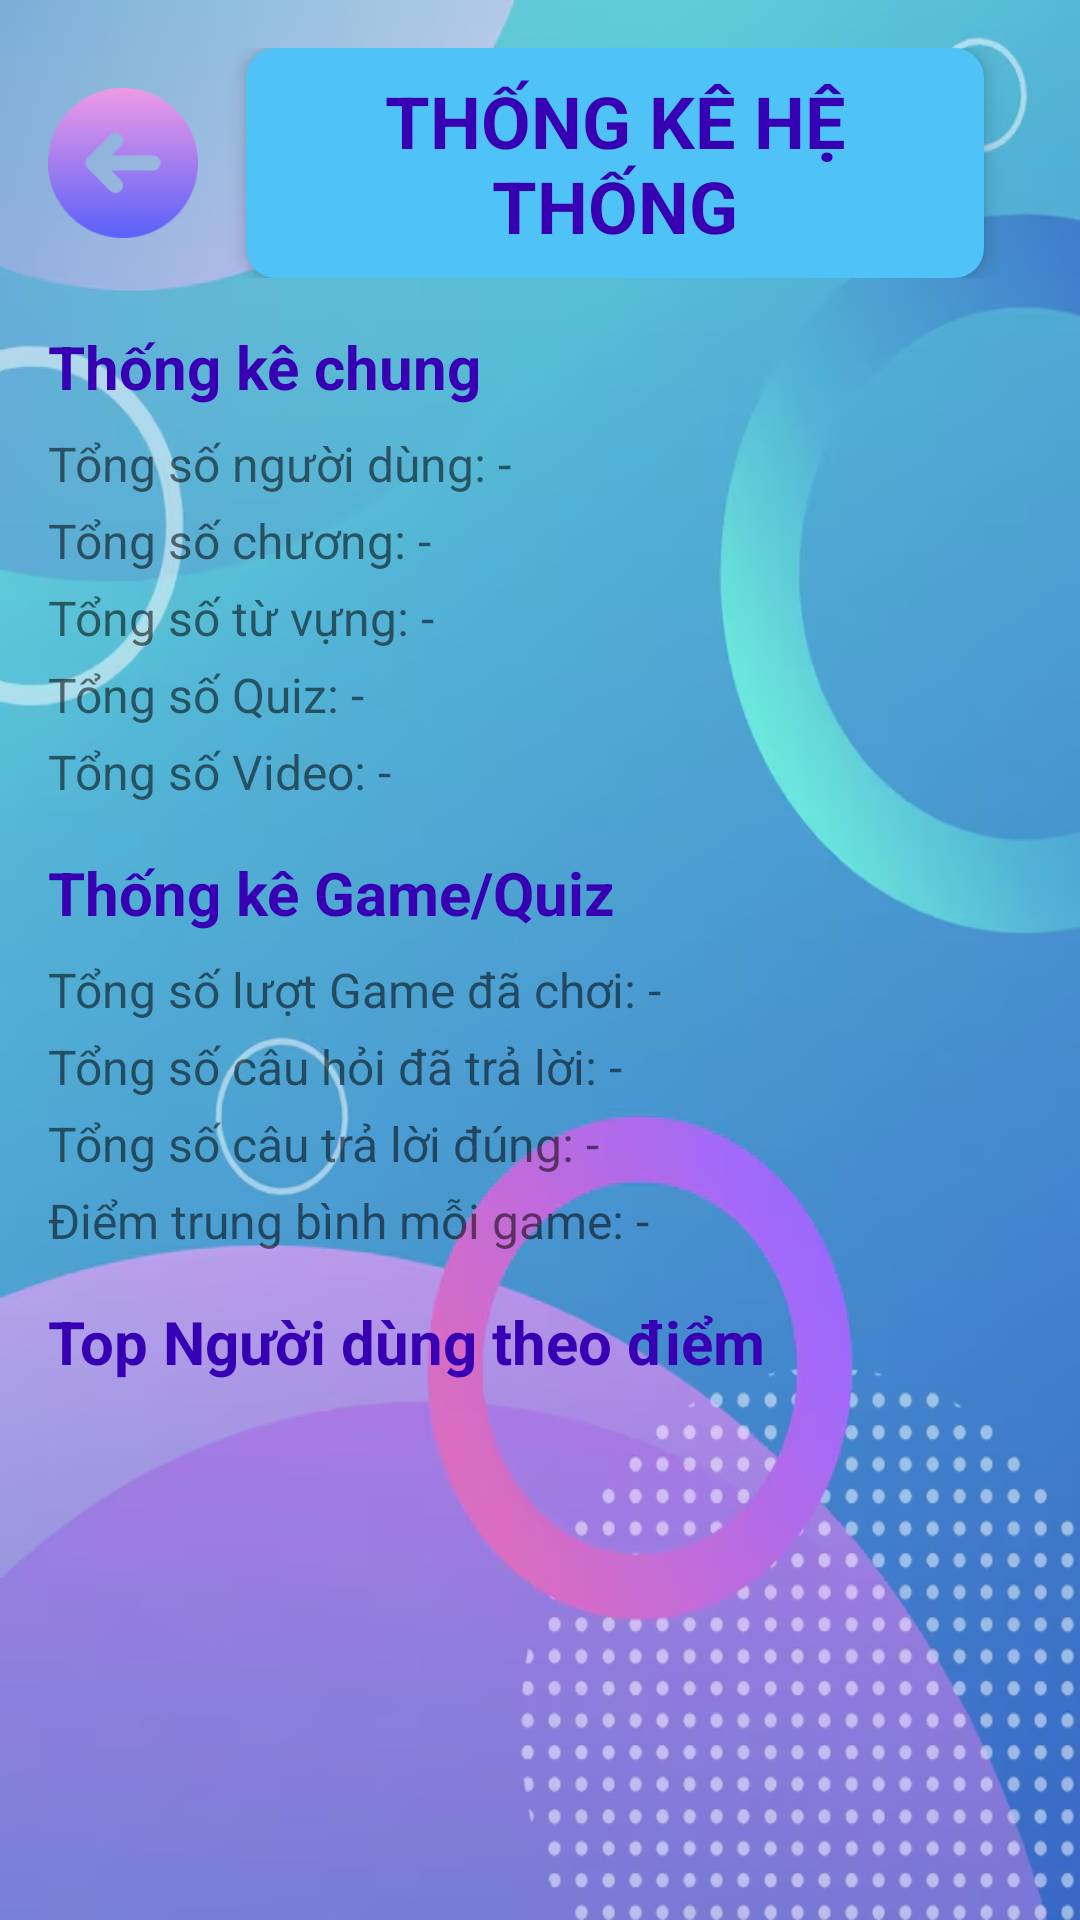

Locate icon controls on the screen. Image size 1080x1920, boxes as (x1, y1, x2, y2).
Quay lại: (48, 88, 198, 238)
